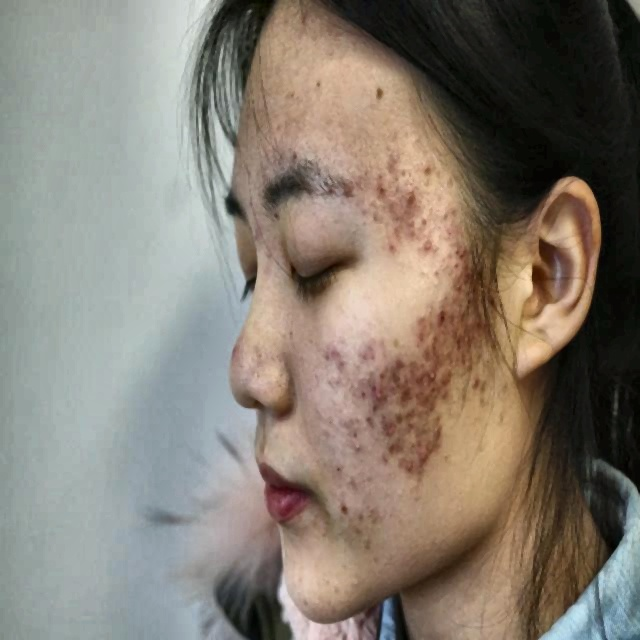papule: (388, 128, 426, 187), (364, 368, 406, 407), (408, 304, 436, 350), (466, 369, 494, 415), (416, 224, 448, 260), (428, 297, 454, 332), (413, 438, 432, 483), (386, 431, 407, 469), (398, 402, 419, 436), (464, 302, 486, 334), (447, 314, 466, 351), (383, 212, 416, 232), (348, 424, 364, 464), (374, 412, 398, 436), (426, 410, 442, 446), (404, 182, 425, 209), (382, 353, 401, 382), (436, 353, 452, 387), (423, 381, 444, 405), (452, 244, 468, 273), (409, 355, 423, 387), (422, 342, 440, 364), (327, 347, 343, 369), (444, 272, 461, 292), (372, 169, 383, 196), (406, 387, 416, 395)
